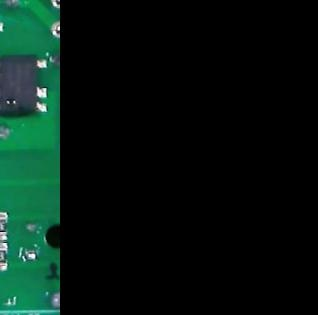chip-resistor: (0, 209, 9, 239), (0, 240, 9, 270)
ic: (0, 51, 49, 118)
